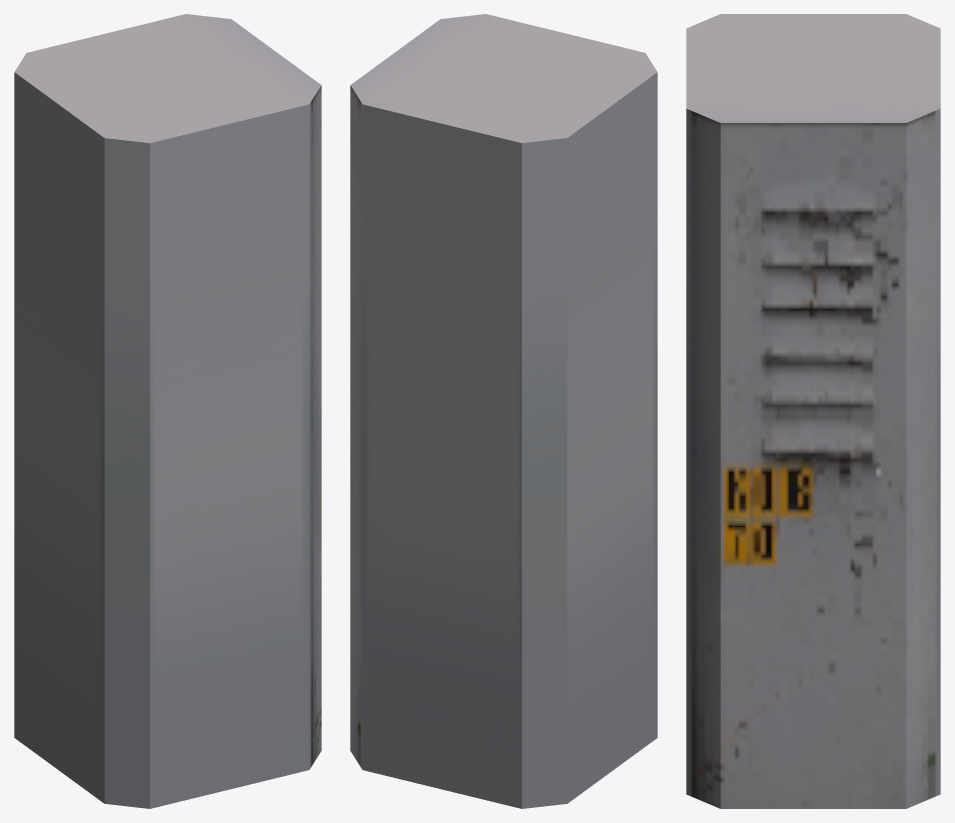
Rendered from SmallPowerbox.fbx.
3 renders of one model, left to right at view 1: azimuth 30°, elevation 25°; view 2: azimuth 150°, elevation 25°; view 3: azimuth 270°, elevation 25°, orthographic. The views are drawn at different scales.
Parts seen in each view (by area): view 1: SmallPowerBox1; view 2: SmallPowerBox1; view 3: SmallPowerBox1.
Part boxes in pixels (<box>): SmallPowerBox1: <box>14,14,321,808</box>; SmallPowerBox1: <box>350,14,657,808</box>; SmallPowerBox1: <box>686,14,940,808</box>.
Size of the model in its own units: 0.4574 by 1.34 by 0.4505.
